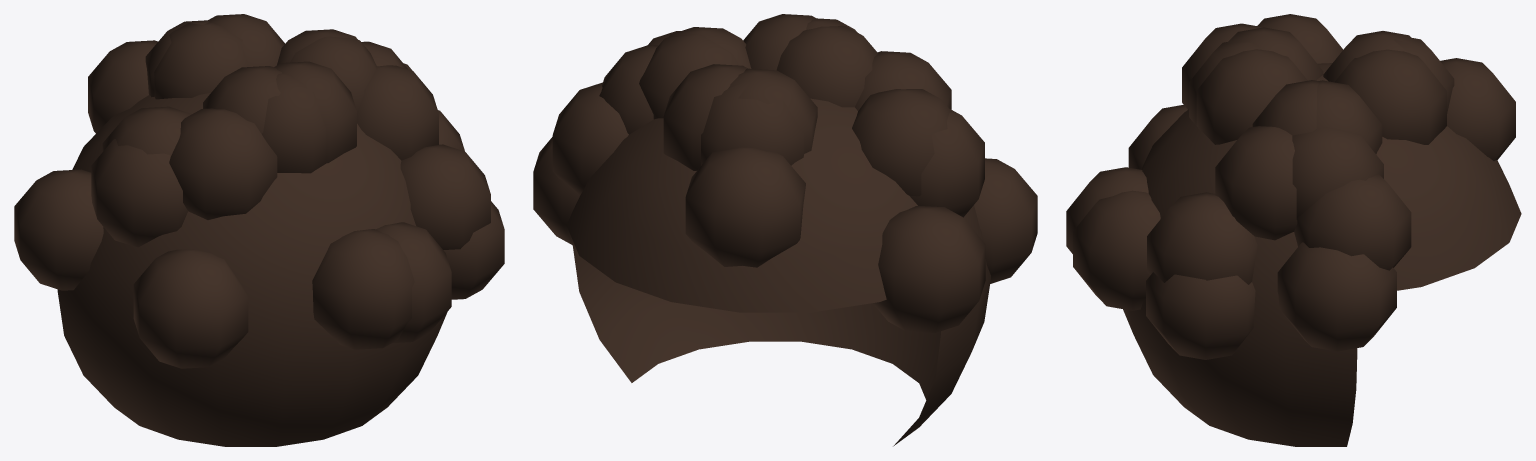
Rendered from hair_5.glb.
3 views of the same model, side by side, from view 1: azimuth 30°, elevation 25°; view 2: azimuth 150°, elevation 25°; view 3: azimuth 270°, elevation 25° (orthographic). The views are drawn at different scales.
Parts seen in each view (by area): view 1: Head; view 2: Head; view 3: Head.
Part boxes in pixels (bbox=[...]): Head: bbox=[14, 14, 504, 446]; Head: bbox=[533, 14, 1037, 446]; Head: bbox=[1066, 14, 1521, 446].
Bounding box in the file's own units: 0.3973 × 0.3028 × 0.3627.
